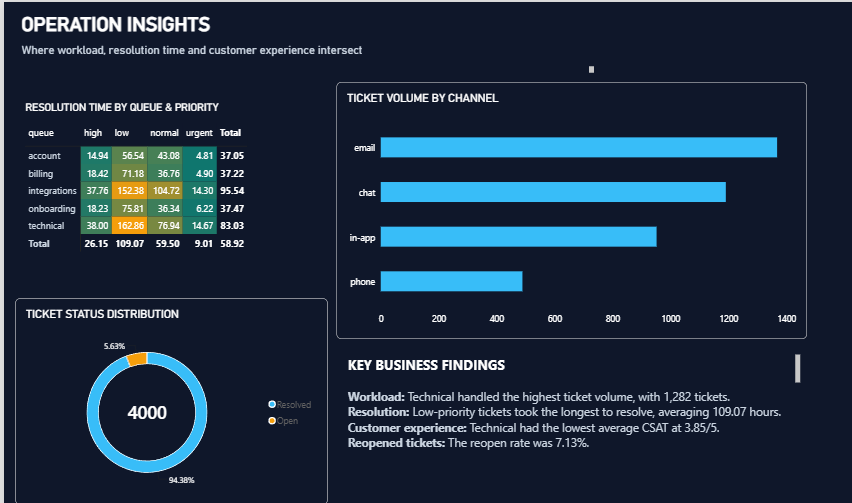

The page's visual inventory and layout, read from the dashboard file:
{"tool":"powerbi","page":{"name":"Page 2","canvas":[1920,1080],"ordinal":1},"visuals":[{"type":"textbox","title":"OPERATION INSIGHTS","box":[28.6,17.1,642.2,279.9],"z":0},{"type":"textbox","title":"Where workload, resolution time and customer experience intersect","box":[28.8,65.9,916,47.3],"z":1000},{"type":"pivotTable","title":"RESOLUTION TIME BY QUEUE & PRIORITY","fields":{"Columns":["customer_support_cleaned.priority"],"Rows":["customer_support_cleaned.queue"],"Values":["customer_support_cleaned.Average Resolution Hours"]},"box":[17.1,144.3,500,330],"z":2000},{"type":"clusteredBarChart","title":"TICKET VOLUME BY CHANNEL","fields":{"Category":["customer_support_cleaned.channel"],"Y":["customer_support_cleaned.Total Tickets"]},"box":[531.4,128.6,753,411],"z":2001},{"type":"donutChart","title":"TICKET STATUS DISTRIBUTION","fields":{"Category":["customer_support_cleaned.ticket_status"],"Y":["customer_support_cleaned.Total Tickets"]},"box":[17.1,474.3,500,330],"z":2002},{"type":"textbox","box":[550,564.3,724.3,54.3],"z":2003},{"type":"textbox","box":[550,618.6,724.3,161.4],"z":2004}]}

Visuals, with their boxes on the page's 1920x1080 design canvas (x1, y1, x2, y2). These are canvas units, not pixel positions in the 852x503 screenshot, which may show the page scaled, cropped or inside an application window:
"OPERATION INSIGHTS" textbox: pyautogui.locateOnScreen(29, 17, 671, 297)
"Where workload, resolution time and customer experience intersect" textbox: pyautogui.locateOnScreen(29, 66, 945, 113)
"RESOLUTION TIME BY QUEUE & PRIORITY" pivotTable: pyautogui.locateOnScreen(17, 144, 517, 474)
"TICKET VOLUME BY CHANNEL" clusteredBarChart: pyautogui.locateOnScreen(531, 129, 1284, 540)
"TICKET STATUS DISTRIBUTION" donutChart: pyautogui.locateOnScreen(17, 474, 517, 804)
textbox: pyautogui.locateOnScreen(550, 564, 1274, 619)
textbox: pyautogui.locateOnScreen(550, 619, 1274, 780)
